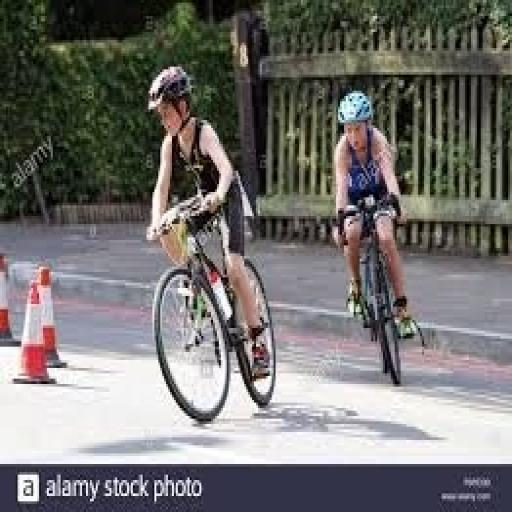cycling: (142, 64, 276, 384), (330, 88, 420, 344)
